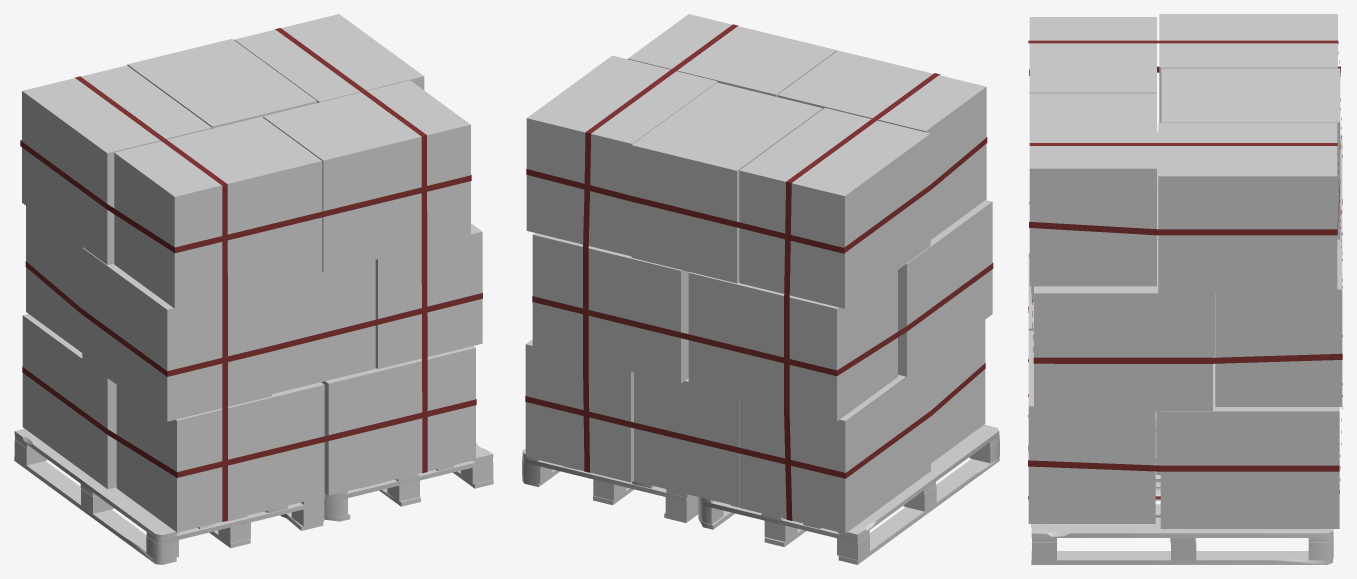
Rendered from SM_BoxesPack03.fbx.
3 renders of one model, left to right at view 1: azimuth 30°, elevation 25°; view 2: azimuth 150°, elevation 25°; view 3: azimuth 270°, elevation 25°, orthographic. The views are drawn at different scales.
Parts seen in each view (by area): view 1: Boxes03, Tapes03; view 2: Boxes03, Tapes03; view 3: Boxes03, Tapes03.
Part boxes in pixels (x1=…): Boxes03: x1=14, y1=14, x2=493, y2=564; Tapes03: x1=20, y1=28, x2=482, y2=521; Boxes03: x1=522, y1=14, x2=999, y2=564; Tapes03: x1=525, y1=24, x2=993, y2=520; Boxes03: x1=1028, y1=14, x2=1342, y2=564; Tapes03: x1=1028, y1=40, x2=1342, y2=499.
Bounding box in the file's own units: 162 × 169 × 125.
